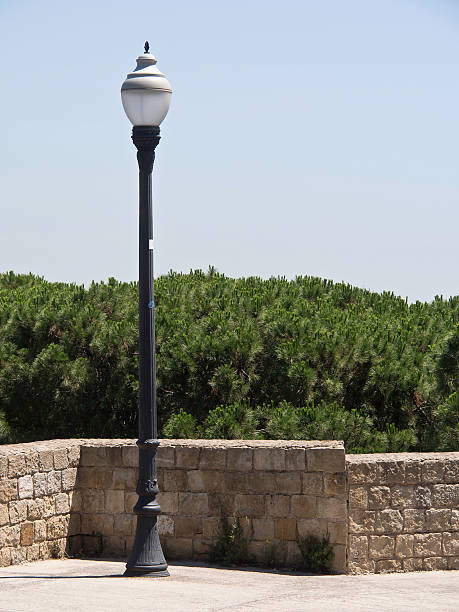light_pole: (128, 69, 166, 574)
